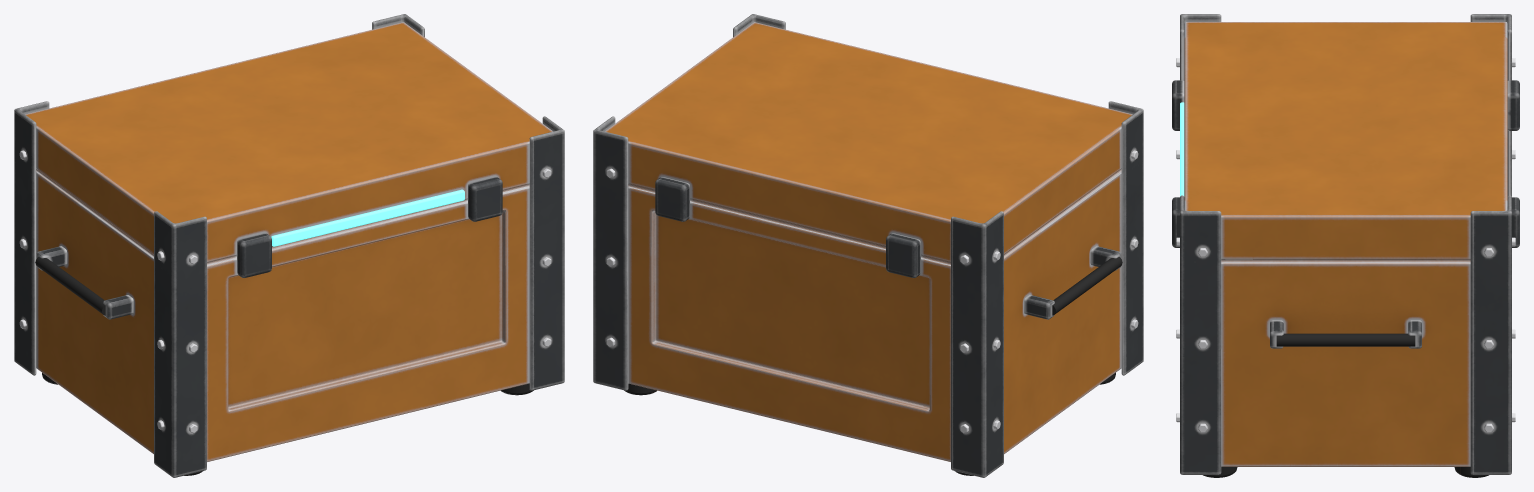
Rendered from crate.glb.
The picture shows the model from 3 angles, left to right: view 1: azimuth 30°, elevation 25°; view 2: azimuth 150°, elevation 25°; view 3: azimuth 270°, elevation 25°; orthographic projection. The views are drawn at different scales.
Visible parts, largest first — view 1: GEO-crate; view 2: GEO-crate; view 3: GEO-crate.
Boxes of the visible parts, x1,y1,x2,y2 form: GEO-crate: [14, 14, 564, 477]; GEO-crate: [593, 14, 1143, 477]; GEO-crate: [1172, 14, 1519, 477].
Bounding box in the file's own units: 1.15 × 0.655 × 0.754.
Materials: 1 (1 with a texture image).
